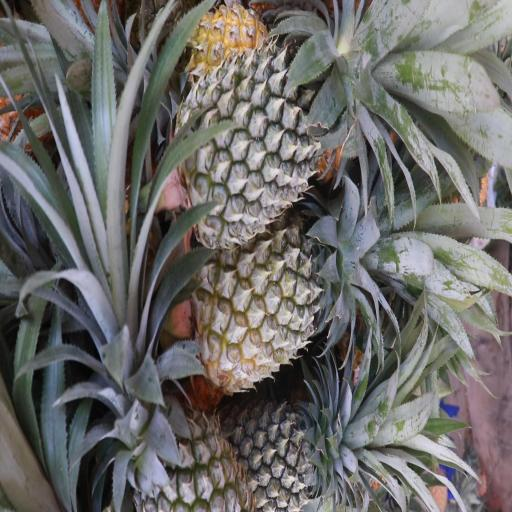------------------------------: (195, 233, 343, 386), (131, 398, 245, 512)
Pineapple - v8 v1: (190, 0, 288, 71)
